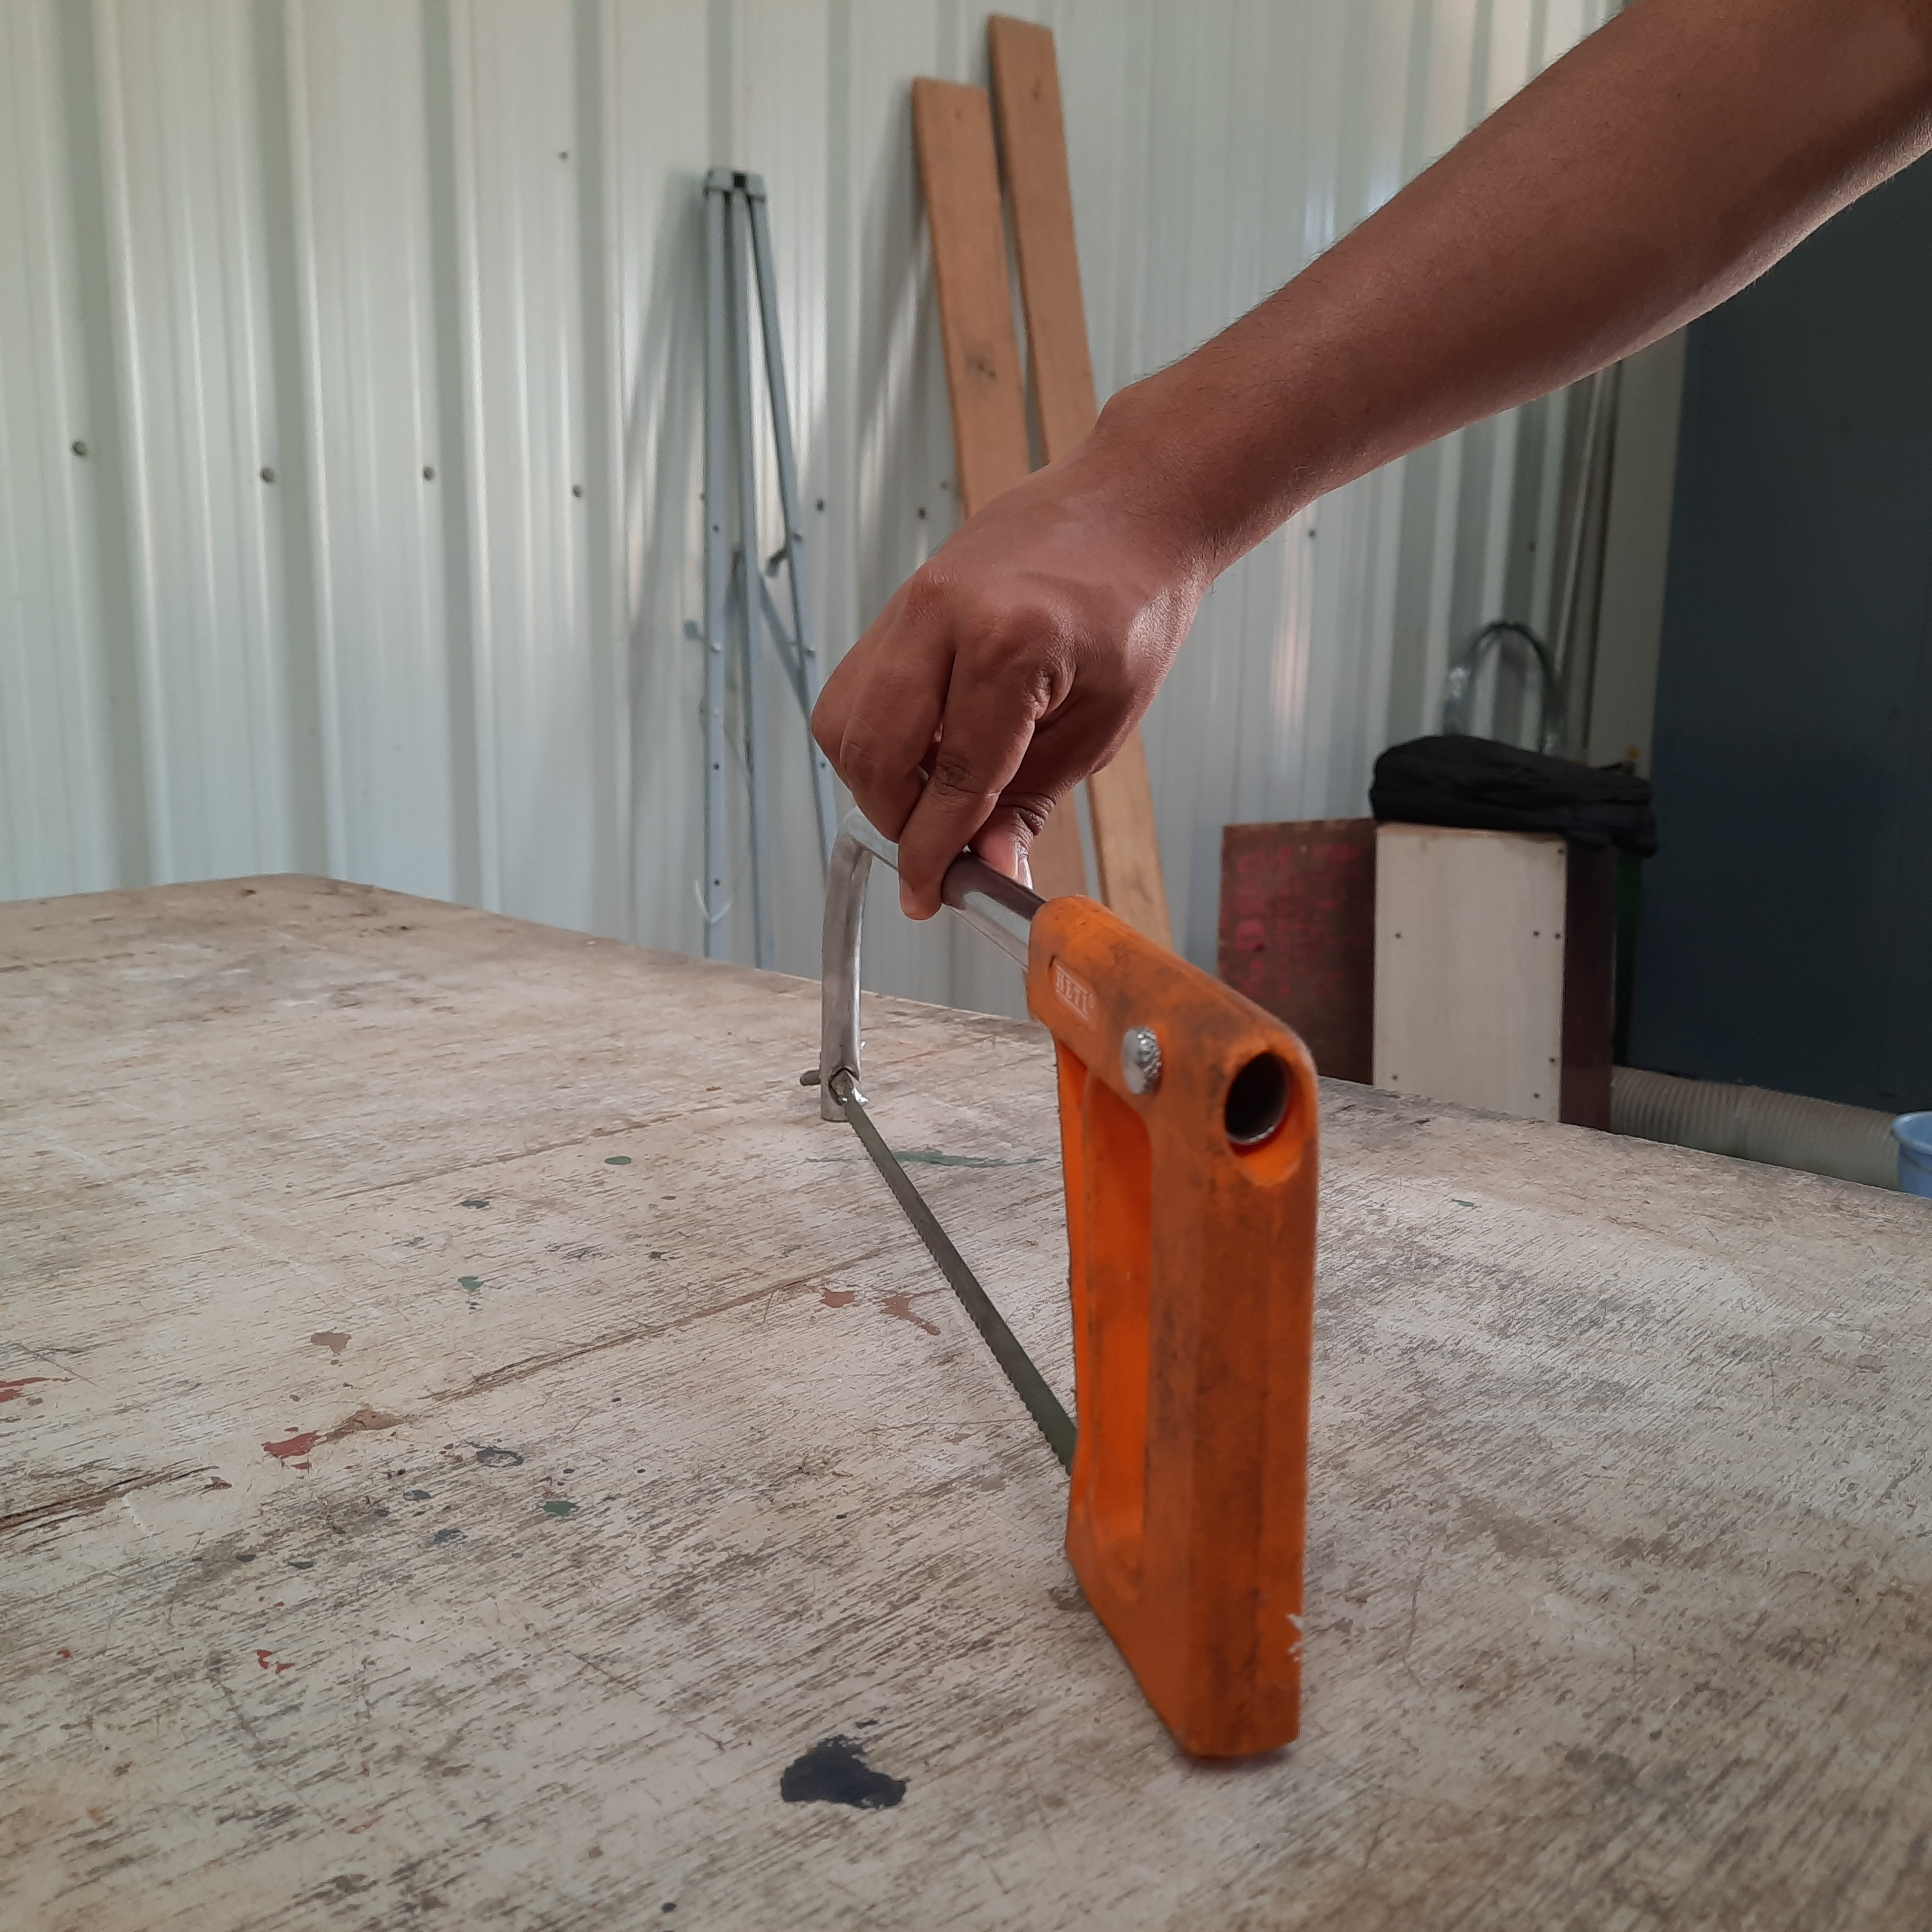Hexaframe: (789, 773, 1366, 1799)
